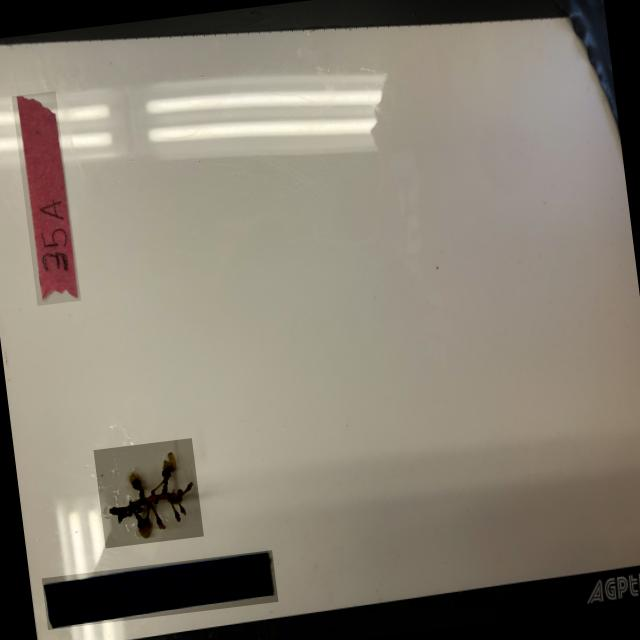index: (11, 90, 80, 304)
measure_label: (41, 548, 278, 628)
rachis_cluster: (93, 436, 203, 546)
